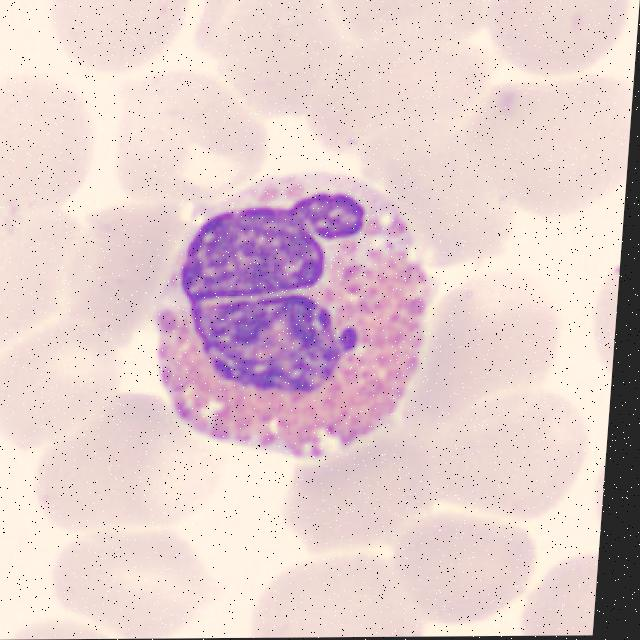eosinophil: (143, 151, 454, 468)
rbc: (43, 388, 225, 530), (467, 67, 635, 210), (290, 35, 482, 153), (107, 69, 268, 209), (45, 520, 231, 639), (359, 118, 526, 248), (281, 420, 442, 553), (373, 495, 537, 622), (432, 396, 585, 522), (59, 202, 186, 349), (221, 547, 425, 638), (0, 324, 126, 461), (431, 278, 557, 411), (0, 57, 102, 212), (467, 0, 639, 87), (215, 0, 342, 113), (44, 0, 204, 82), (0, 200, 80, 356), (325, 0, 498, 54), (519, 549, 599, 636), (582, 251, 621, 399), (582, 432, 608, 536)
